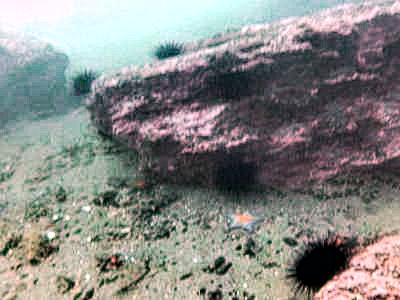urchin: (287, 236, 348, 292), (215, 154, 253, 195), (72, 69, 94, 92), (155, 41, 184, 56)
